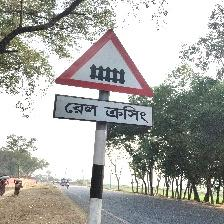Rail-crossing: (53, 29, 156, 129)
